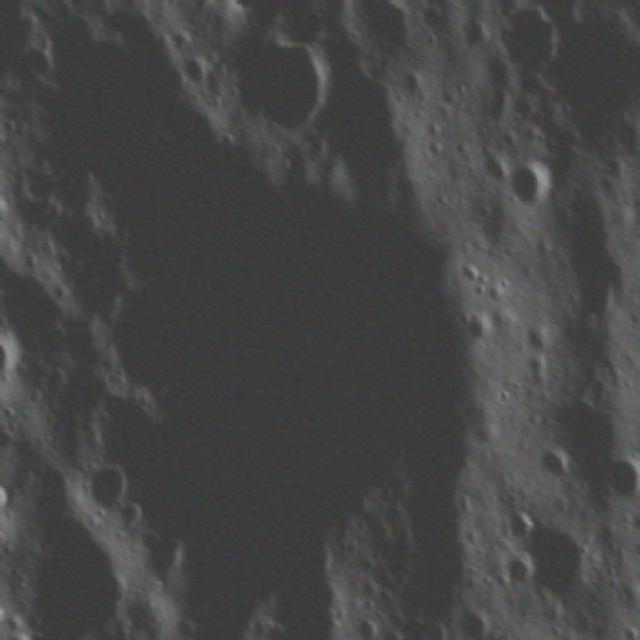crater: (87, 145, 522, 608), (546, 6, 640, 146), (24, 523, 134, 640), (237, 29, 345, 134), (527, 513, 596, 604), (497, 0, 565, 80), (80, 455, 131, 519), (505, 154, 558, 214), (496, 547, 541, 591), (603, 452, 640, 502), (17, 41, 61, 82), (454, 607, 500, 640), (534, 441, 571, 477), (507, 507, 539, 542), (457, 312, 494, 342), (419, 0, 446, 37), (169, 611, 202, 640), (224, 0, 265, 23), (352, 609, 380, 640), (418, 614, 451, 640), (378, 624, 404, 640)
